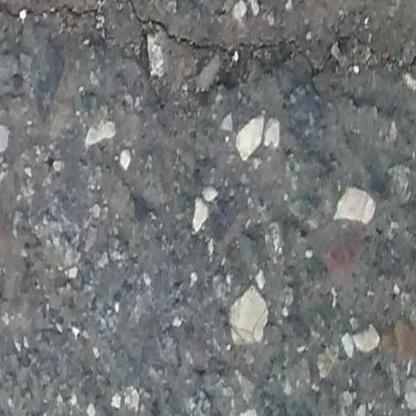Cracks: (0, 0, 416, 79)
